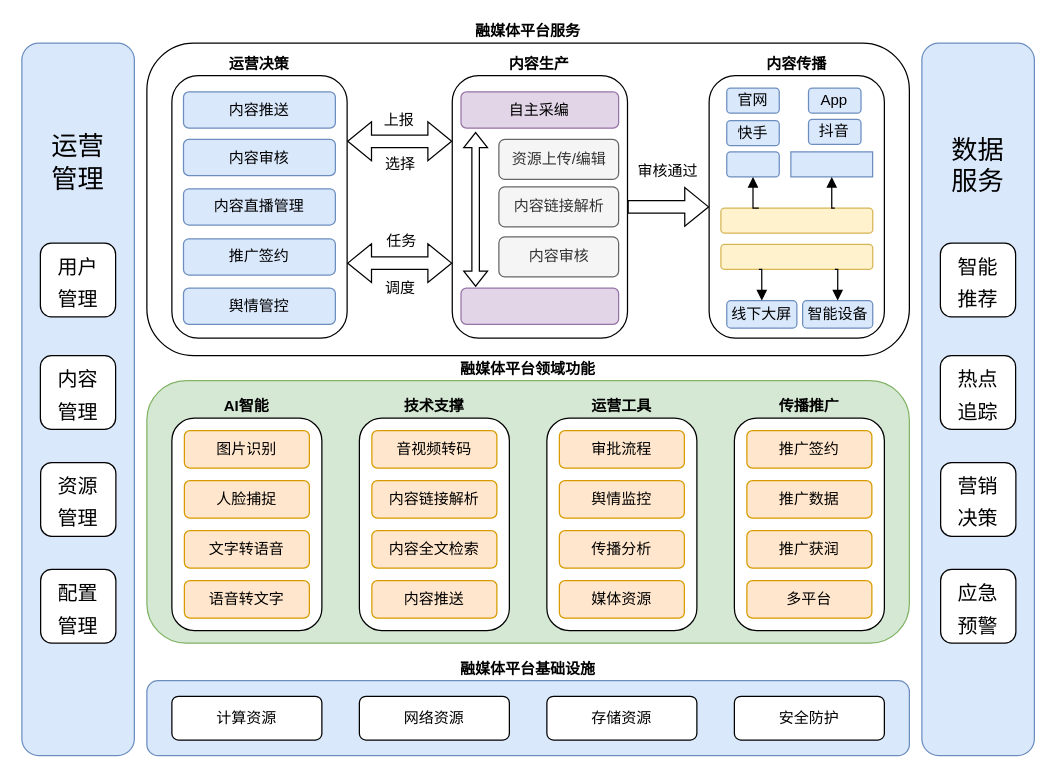
Some shapes in this 1056 by 778 pixel diagram are drawn without their labels. The shapes that lost their labels are listed below. From the top down, each one's centre as x and y in pixels, then its label:
At pixel 752 164: "小程序".
At pixel 831 164: "微信公众号".
At pixel 796 220: "新媒体".
At pixel 796 256: "传统媒体".
At pixel 539 305: "用户上传".
